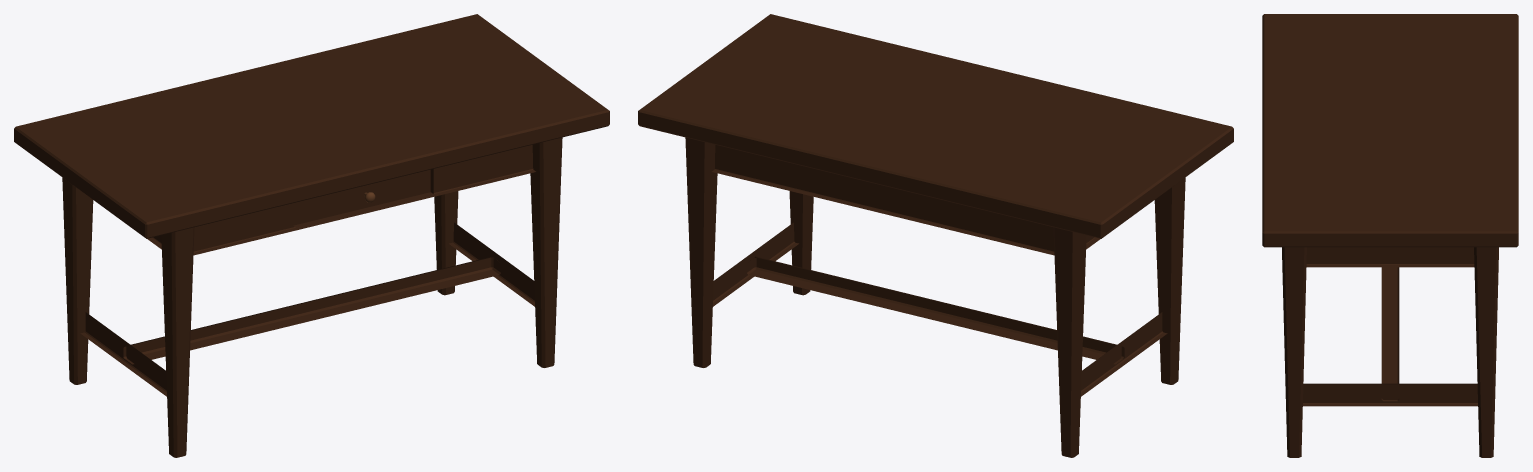
The model's file is Unicolor_Table_For_Map.fbx.
The picture shows the model from 3 angles, left to right: view 1: azimuth 30°, elevation 25°; view 2: azimuth 150°, elevation 25°; view 3: azimuth 270°, elevation 25°; orthographic projection. The views are drawn at different scales.
Parts seen in each view (by area): view 1: Table_For_Map; view 2: Table_For_Map; view 3: Table_For_Map.
Boxes of the visible parts, x1,y1,x2,y2 form: Table_For_Map: (14, 14, 609, 457); Table_For_Map: (638, 14, 1233, 457); Table_For_Map: (1262, 14, 1518, 457).
Size of the model in its own units: 238 by 125 by 118.
